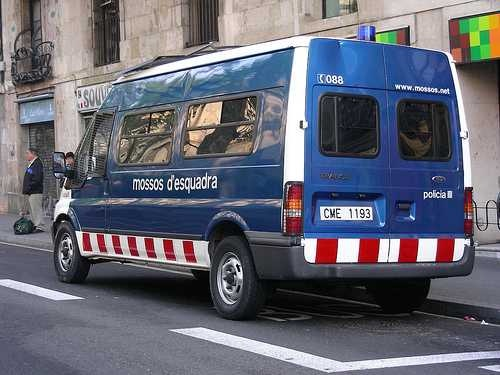Police Van: (39, 34, 500, 322)
